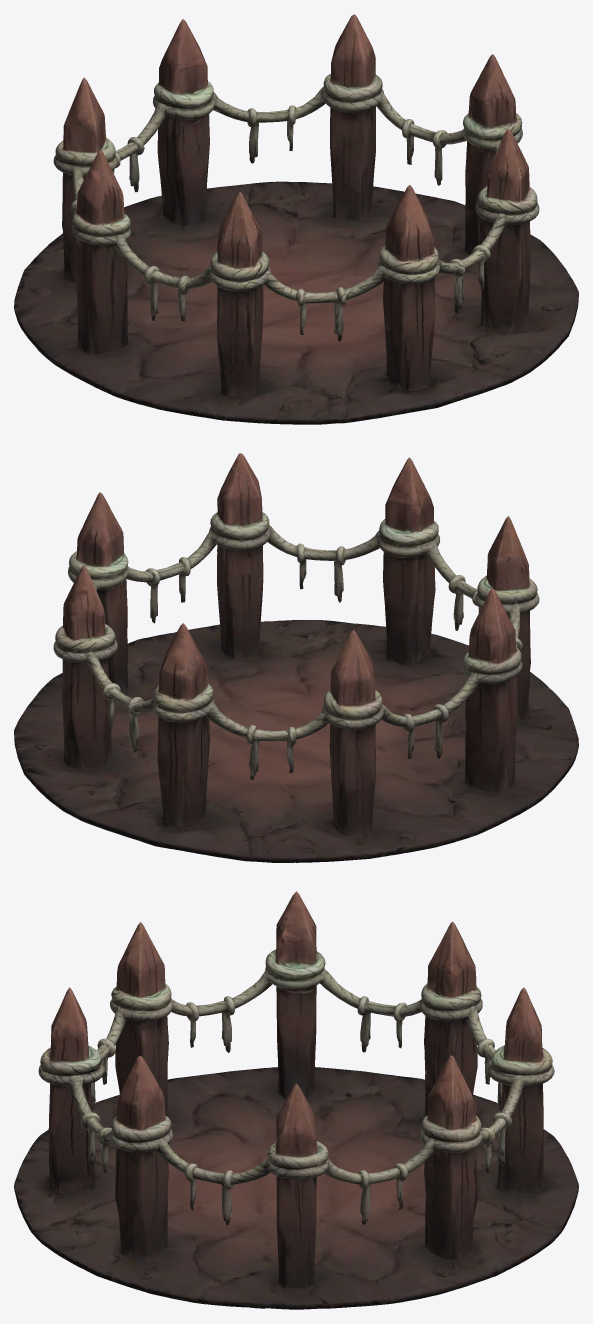
The model's file is rope_ring.glb.
3 views of the same model, one above another, from view 1: azimuth 30°, elevation 25°; view 2: azimuth 150°, elevation 25°; view 3: azimuth 270°, elevation 25° (orthographic).
Bounding box in the file's own units: 1.89 × 0.762 × 1.9.
Materials: 1 (1 with a texture image).
